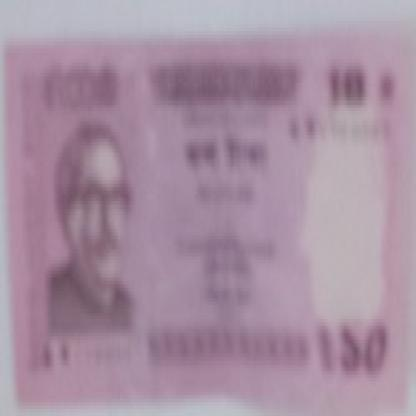Ten Taka: (339, 301, 391, 378), (326, 52, 373, 107)
